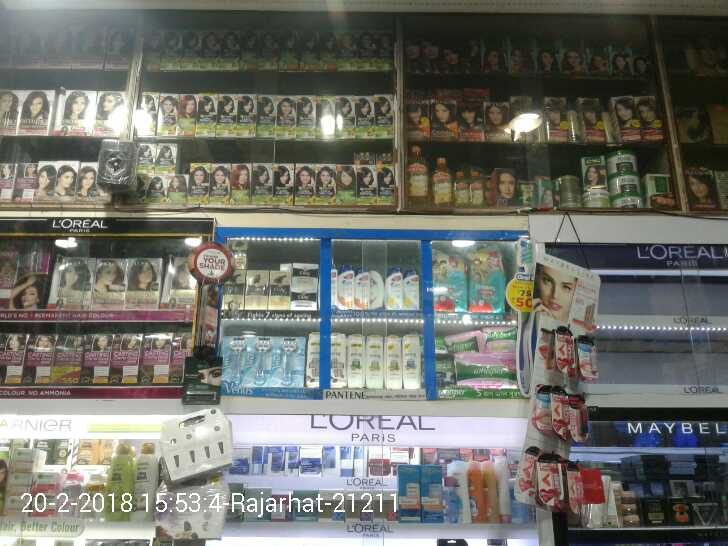venus: (279, 337, 308, 386), (252, 334, 279, 386), (225, 334, 252, 385)
